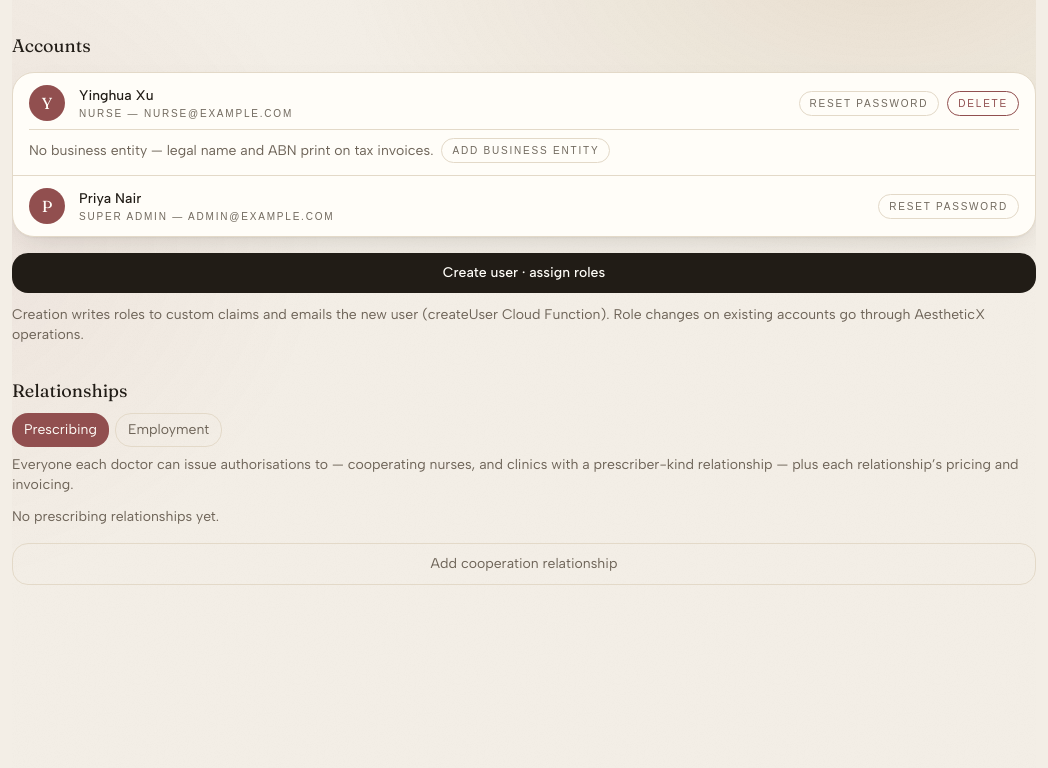
Scenario: AdminConsole per-account actions › can back out of a delete via Cancel
Click the button "Delete" at (983, 103), box [947,90,1019,116]
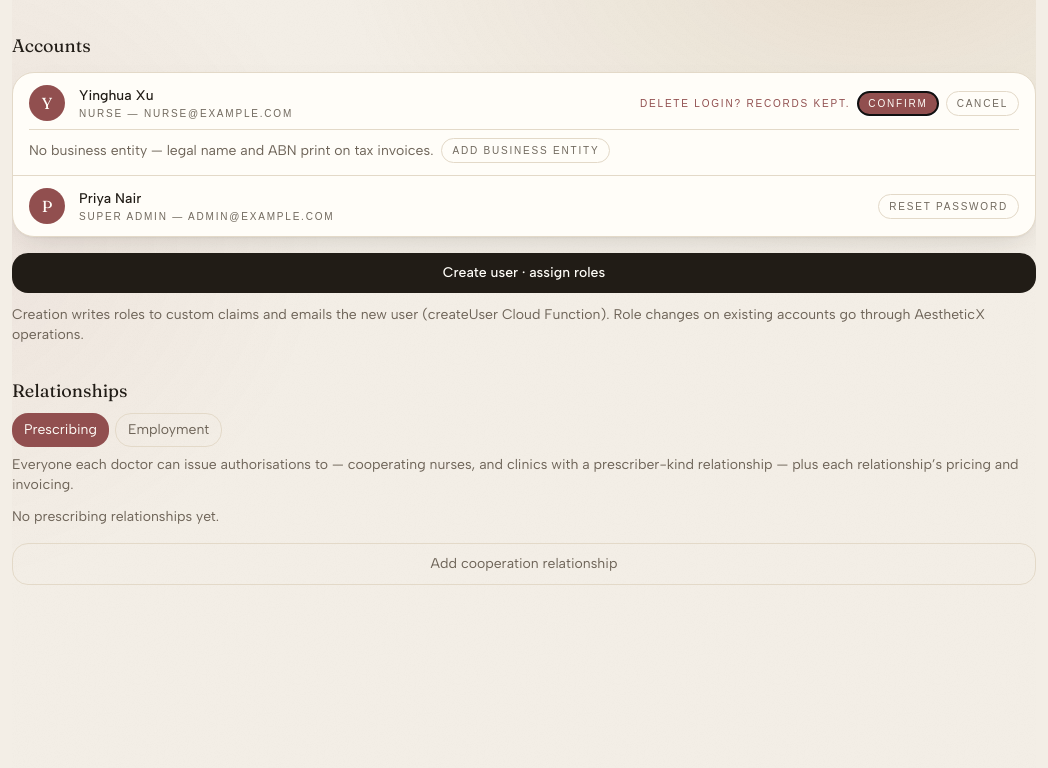
Click the button "Cancel" at (982, 103), box [946,90,1019,116]
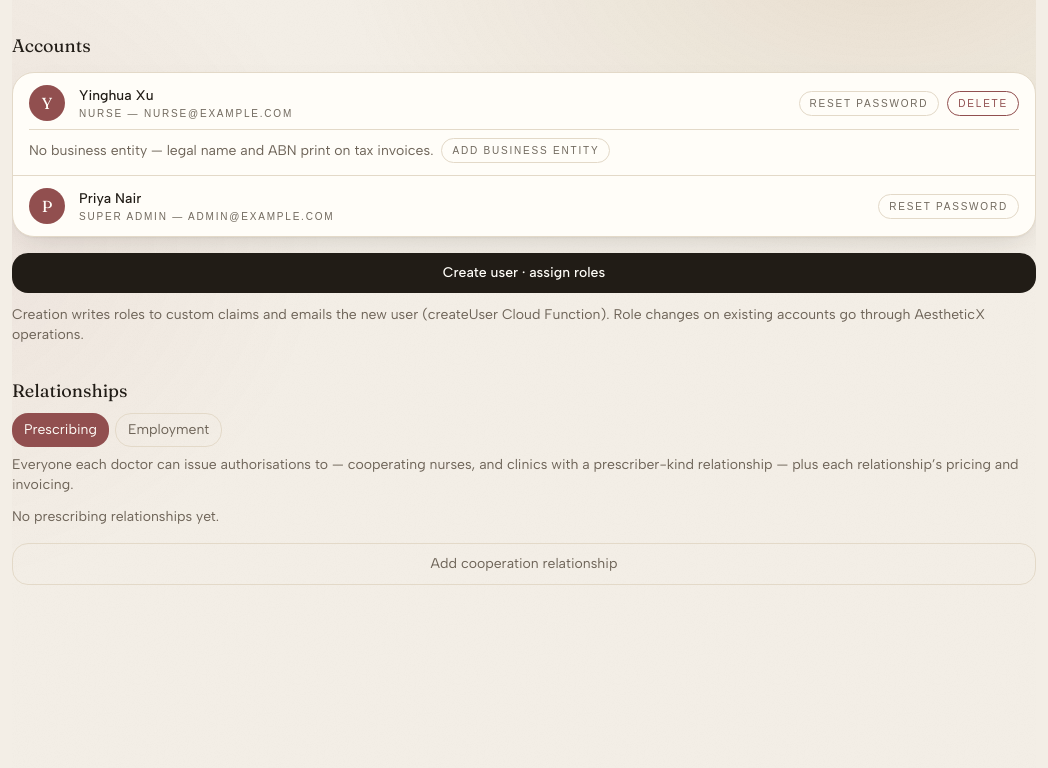
expect the text "Delete login?" is gone: met
